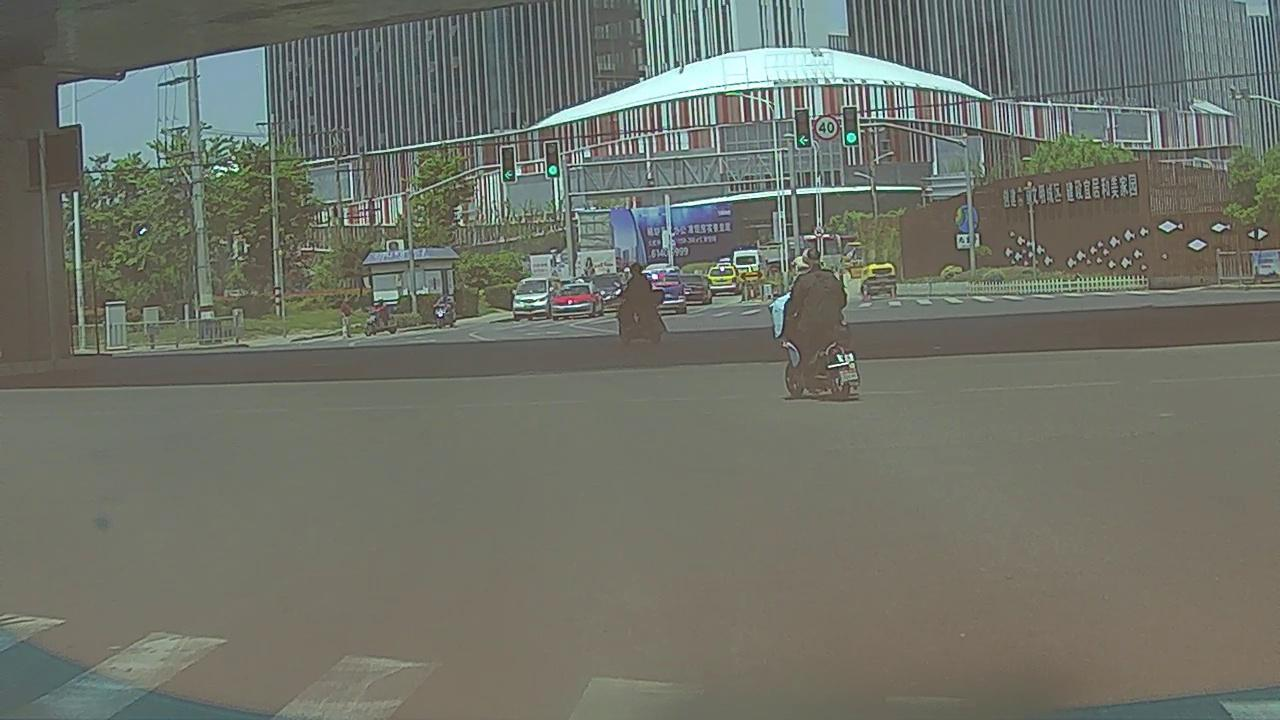traffic_light: (843, 106, 858, 146), (795, 109, 810, 147), (501, 146, 515, 181), (546, 142, 559, 178)
